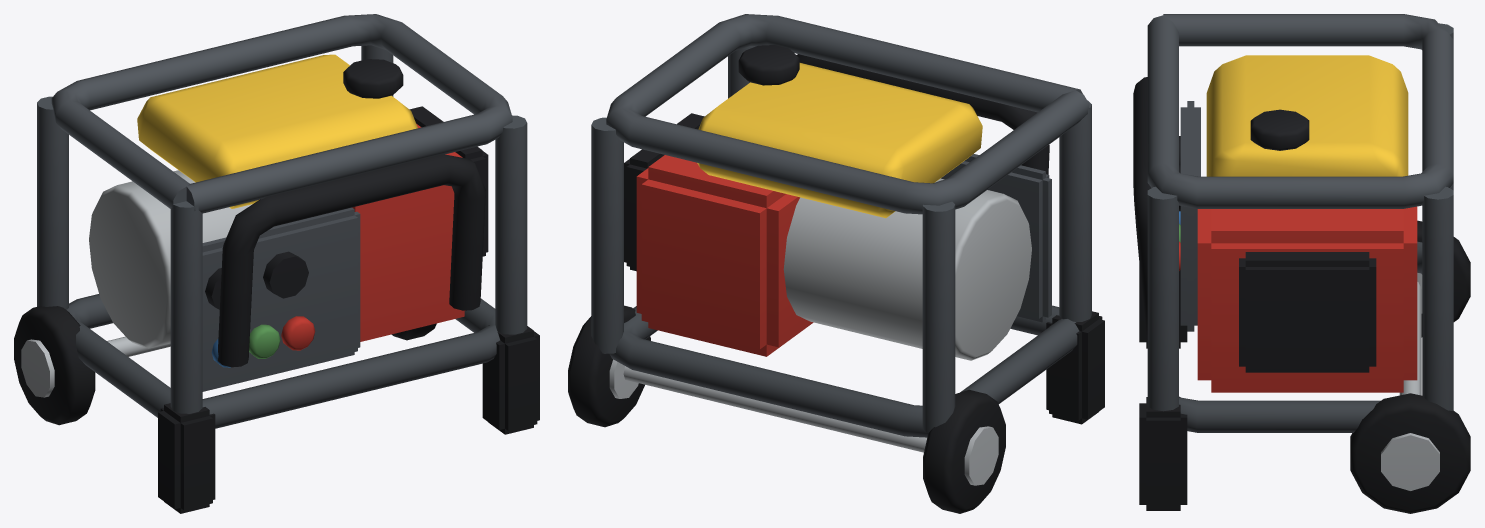
File: SM_Generator_Portable_01.glb
3 renders of one model, left to right at view 1: azimuth 30°, elevation 25°; view 2: azimuth 150°, elevation 25°; view 3: azimuth 270°, elevation 25°, orthographic. The views are drawn at different scales.
Parts seen in each view (by area): view 1: SM_Generator_Portable_01; view 2: SM_Generator_Portable_01; view 3: SM_Generator_Portable_01.
Part boxes in pixels (x1=…): SM_Generator_Portable_01: x1=14, y1=14, x2=539, y2=513; SM_Generator_Portable_01: x1=568, y1=14, x2=1104, y2=513; SM_Generator_Portable_01: x1=1133, y1=14, x2=1470, y2=513.
Bounding box in the file's own units: 0.666 × 0.55 × 0.4917.
1 material, 1 textured.
